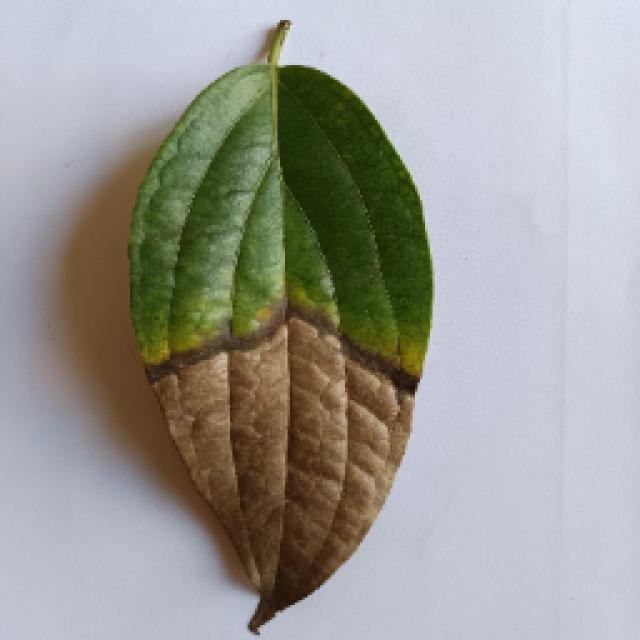footrot: (122, 28, 438, 632)
